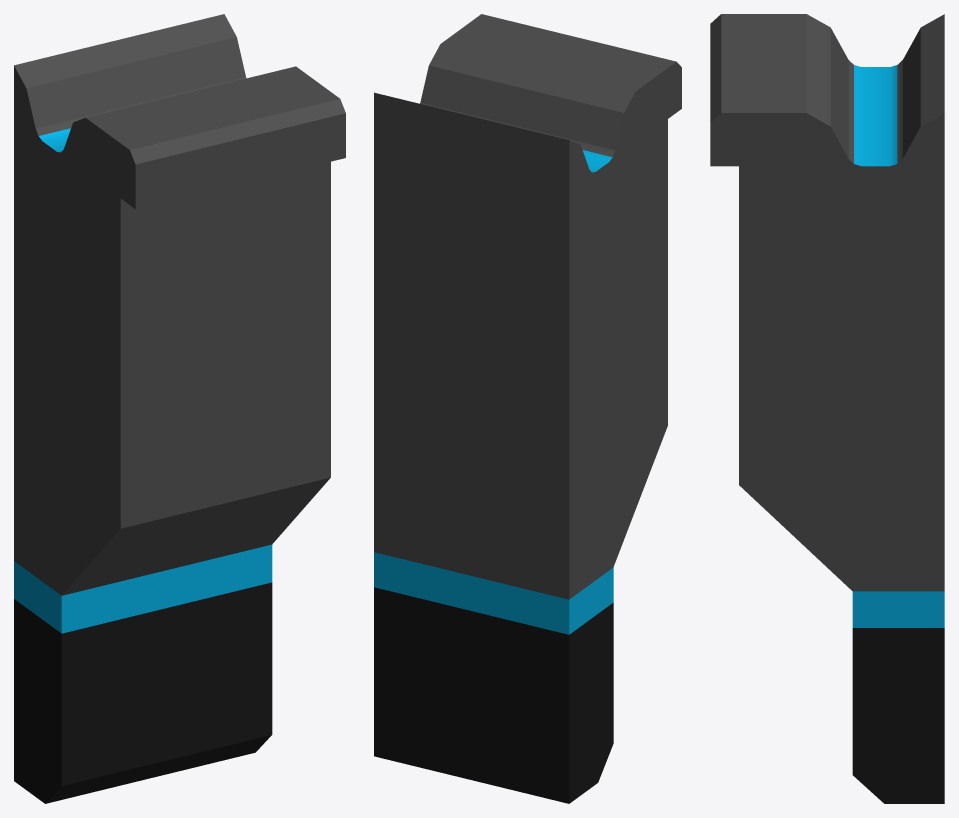
Rendered from Floor_Edge_01x1.fbx.
The picture shows the model from 3 angles, left to right: view 1: azimuth 30°, elevation 25°; view 2: azimuth 150°, elevation 25°; view 3: azimuth 270°, elevation 25°; orthographic projection. The views are drawn at different scales.
Parts seen in each view (by area): view 1: Floor_Edge_01x1; view 2: Floor_Edge_01x1; view 3: Floor_Edge_01x1.
Boxes of the visible parts, x1=… form: Floor_Edge_01x1: x1=14, y1=14, x2=345, y2=803; Floor_Edge_01x1: x1=374, y1=14, x2=681, y2=803; Floor_Edge_01x1: x1=710, y1=14, x2=944, y2=803.
Size of the model in its own units: 200 by 650 by 200.
